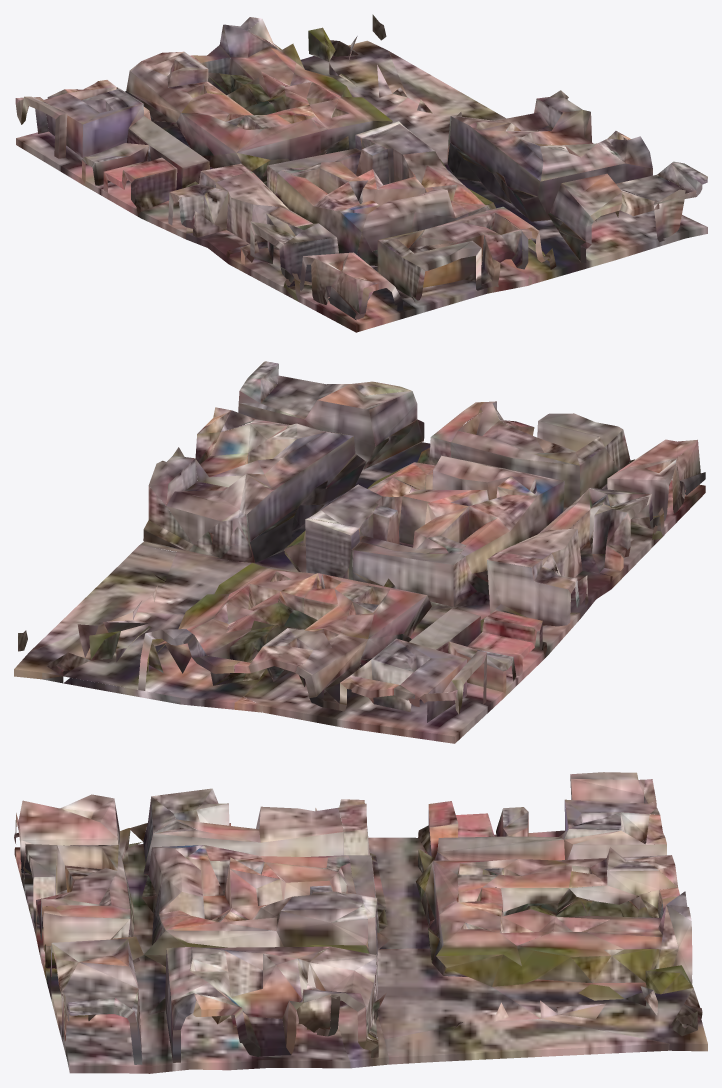
3 renders of one model, top to bottom at view 1: azimuth 30°, elevation 25°; view 2: azimuth 150°, elevation 25°; view 3: azimuth 270°, elevation 25°, orthographic. The views are drawn at different scales.
Visible parts, largest first — view 1: Mesh_0; view 2: Mesh_0; view 3: Mesh_0.
Part boxes in pixels (x1=…): Mesh_0: x1=15, y1=14, x2=707, y2=332; Mesh_0: x1=14, y1=361, x2=705, y2=743; Mesh_0: x1=14, y1=772, x2=707, y2=1073.
Size of the model in its own units: 267 by 40.98 by 330.
2 materials, 2 textured.
